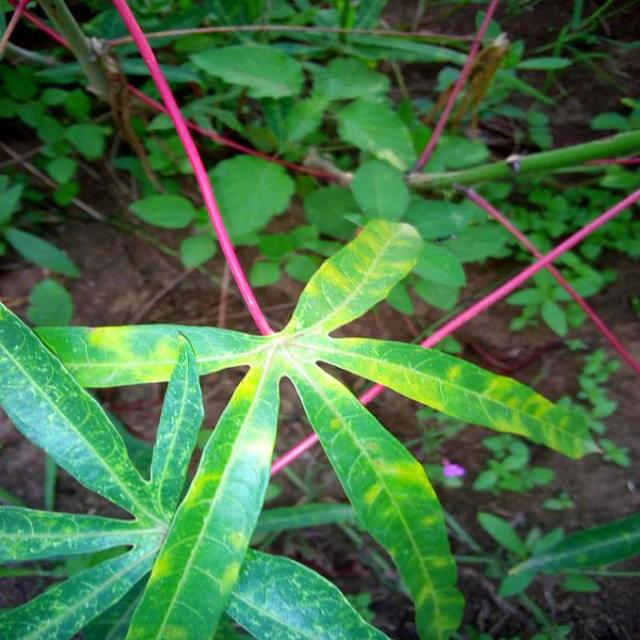cassava leaf: (1, 215, 600, 638)
